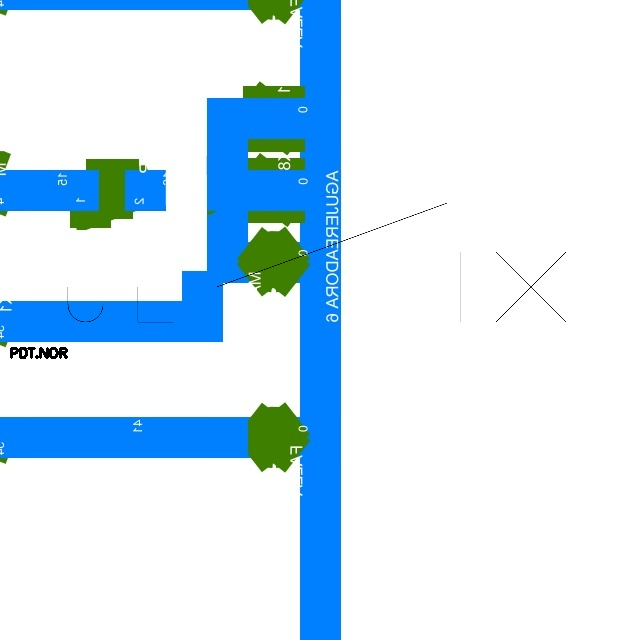interruptor_termomagnetico: (9, 188, 616, 337)
